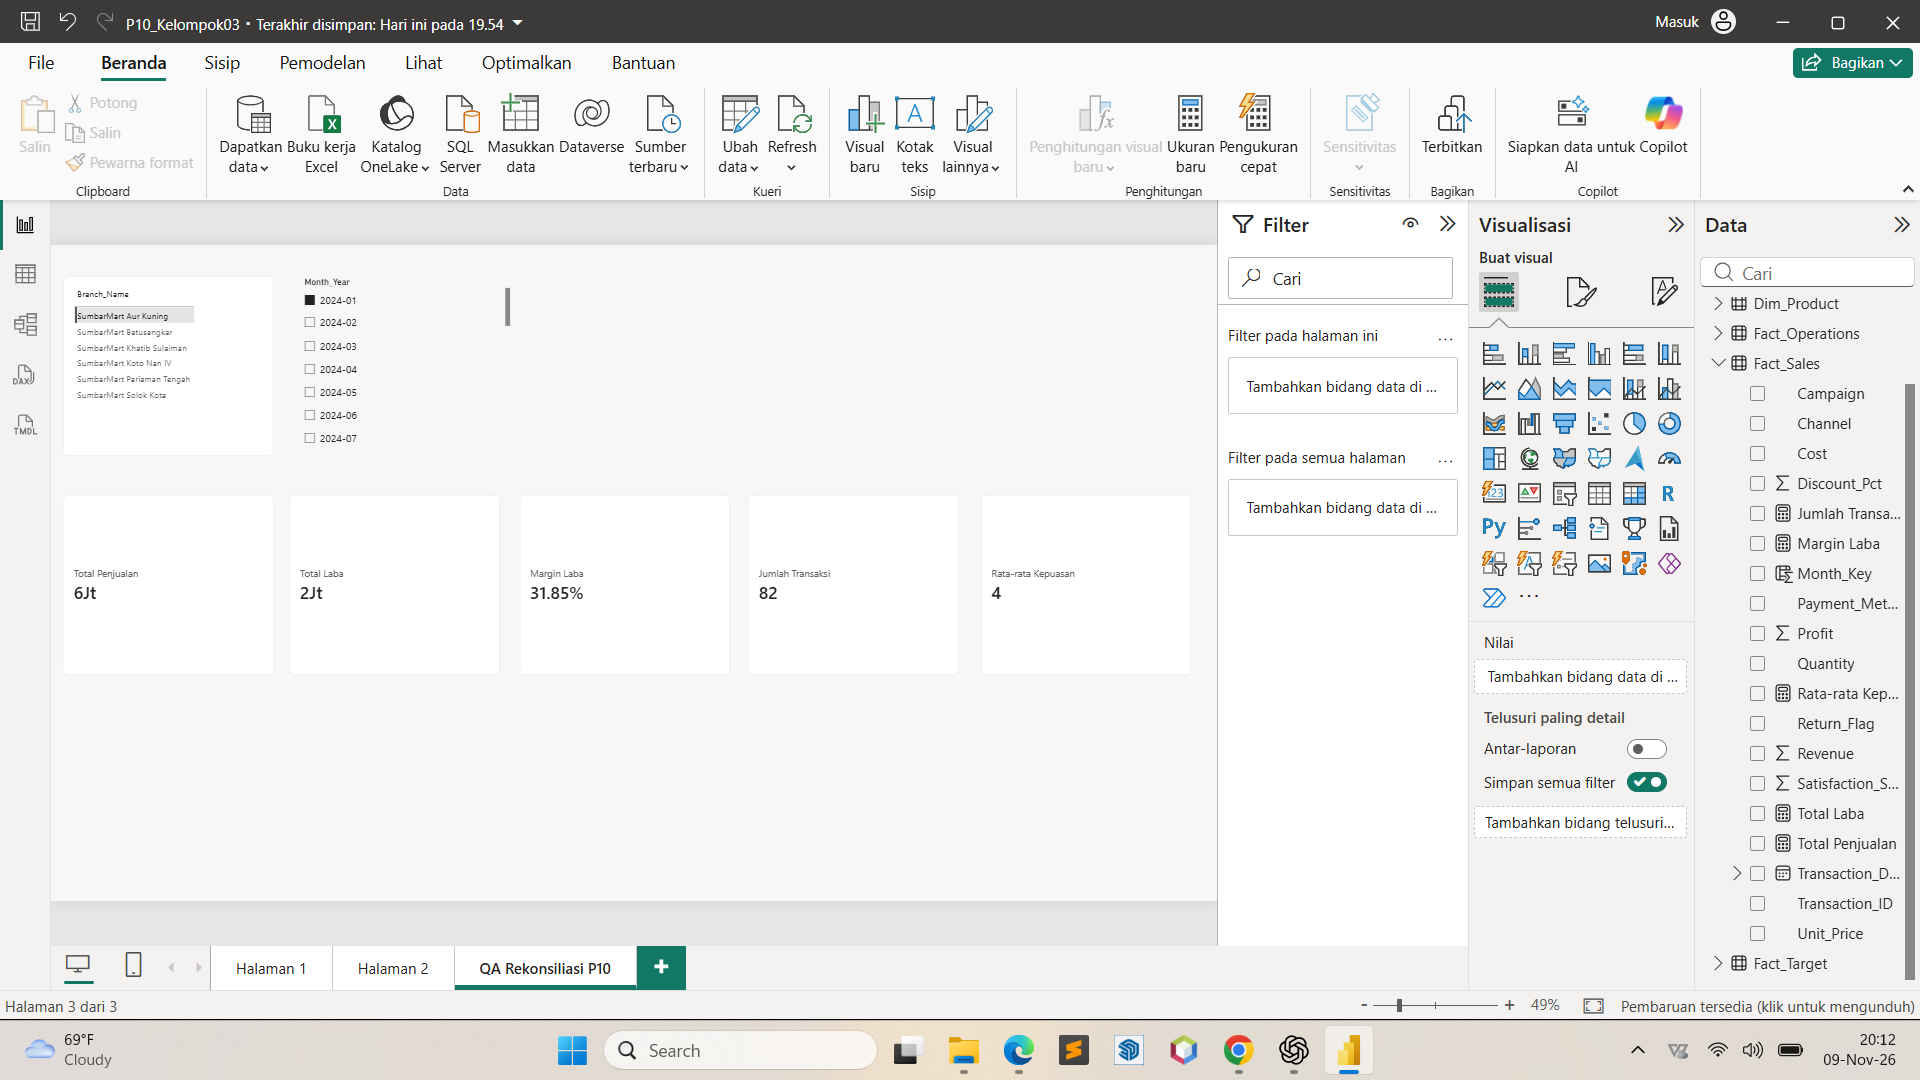

The dashboard page shown, as its layout file describes it:
{"tool":"powerbi","page":{"name":"QA Rekonsiliasi P10","canvas":[1920,1080],"ordinal":2},"visuals":[{"type":"tableEx","fields":{"Values":["Dim_Branch.Branch_Name"]},"box":[20.6,51.5,345.8,296.4],"z":1},{"type":"slicer","fields":{"Values":["Dim Date.Month_Year"]},"box":[409.6,51.5,346,296],"z":2},{"type":"cardVisual","fields":{"Data":["Fact_Sales.Total Penjualan"]},"box":[20.6,366.4,346,296],"z":3},{"type":"cardVisual","fields":{"Data":["Fact_Sales.Total Laba"]},"box":[393.1,366.4,346,296],"z":4},{"type":"cardVisual","fields":{"Data":["Fact_Sales.Margin Laba"]},"box":[771.9,366.4,346,296],"z":5},{"type":"cardVisual","fields":{"Data":["Fact_Sales.Jumlah Transaksi"]},"box":[1148.5,366.4,346,296],"z":6},{"type":"cardVisual","fields":{"Data":["Fact_Sales.Rata-rata Kepuasan"]},"box":[1521.1,366.4,346,296],"z":7},{"type":"tableEx","fields":{"Values":["Dim_Branch.Branch_Name","Fact_Sales.Total Penjualan","Fact_Sales.Total Laba","Fact_Sales.Margin Laba","Fact_Sales.Jumlah Transaksi","Fact_Sales.Rata-rata Kepuasan","Fact_Target.Total Target Penjualan","Fact_Target.Selisih Penjualan"]},"box":[18.5,683.4,1171.2,335.5],"z":8}]}

Visuals, with their boxes on the page's 1920x1080 design canvas (x1, y1, x2, y2). These are canvas units, not pixel positions in the 1920x1080 screenshot, which may show the page scaled, cropped or inside an application window:
tableEx - Dim_Branch.Branch_Name: <box>21,52,366,348</box>
slicer - Dim Date.Month_Year: <box>410,52,756,348</box>
cardVisual - Fact_Sales.Total Penjualan: <box>21,366,367,662</box>
cardVisual - Fact_Sales.Total Laba: <box>393,366,739,662</box>
cardVisual - Fact_Sales.Margin Laba: <box>772,366,1118,662</box>
cardVisual - Fact_Sales.Jumlah Transaksi: <box>1148,366,1494,662</box>
cardVisual - Fact_Sales.Rata-rata Kepuasan: <box>1521,366,1867,662</box>
tableEx - Dim_Branch.Branch_Name x Fact_Sales.Total Penjualan: <box>18,683,1190,1019</box>
